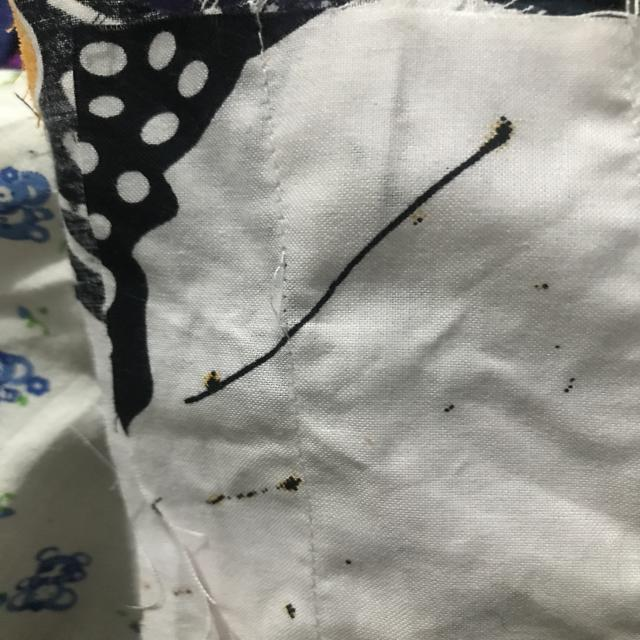skip: (256, 237, 308, 359)
